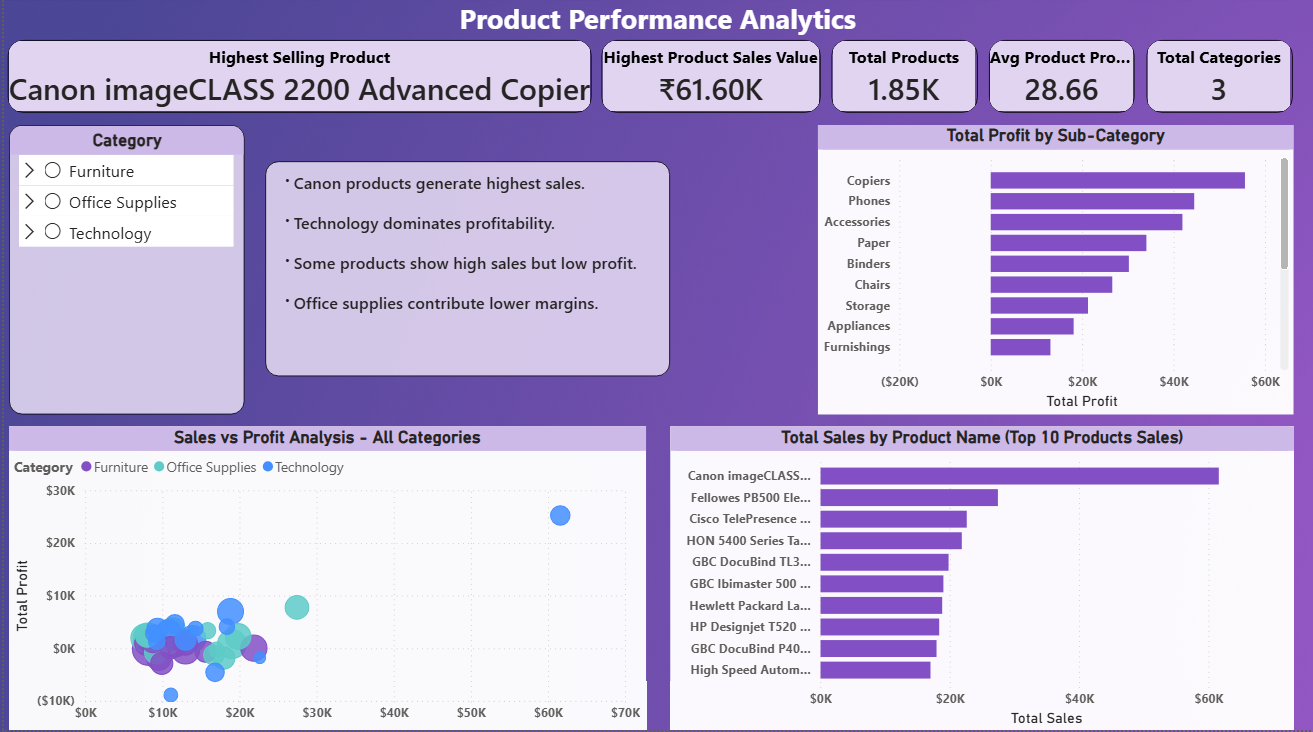

This screenshot's page, from the dashboard's own definition file:
{"tool":"powerbi","page":{"name":"Product Analytics","canvas":[1280,720],"ordinal":1},"visuals":[{"type":"textbox","box":[435.3,0,408.4,47.7],"z":0},{"type":"cardVisual","fields":{"Data":["Sample - Superstore.Highest Selling Product"]},"box":[4,44,571,71],"z":1000},{"type":"cardVisual","fields":{"Data":["Sample - Superstore.Highest Product Sales Value"]},"box":[585,44.3,214,71.4],"z":2000},{"type":"cardVisual","fields":{"Data":["Sample - Superstore.Total Categories"]},"box":[1118,44.3,142.9,71.4],"z":3000},{"type":"cardVisual","fields":{"Data":["Sample - Superstore.Avg Product Profit"]},"box":[964,44.3,142,71.4],"z":4000},{"type":"cardVisual","fields":{"Data":["Sample - Superstore.Total Products"]},"box":[810,44.3,142.9,71.4],"z":5000},{"type":"clusteredBarChart","title":"Total Sales by Product Name (Top 10 Products Sales)","fields":{"Category":["Sample - Superstore.Product Name"],"Y":["Sample - Superstore.Total Sales"]},"box":[651.4,421.4,610,298.6],"z":6000},{"type":"barChart","fields":{"Category":["Sample - Superstore.Sub-Category"],"Y":["Sample - Superstore.Total Profit"]},"box":[795.7,127.1,465.7,282.9],"z":7000},{"type":"scatterChart","fields":{"X":["Sample - Superstore.Total Sales"],"Y":["Sample - Superstore.Total Profit"],"Size":["Sum(Sample - Superstore.Quantity)"],"Category":["Sample - Superstore.Product Name"],"Series":["Sample - Superstore.Category"]},"box":[4.3,421.4,622.9,298.6],"z":8000},{"type":"listSlicer","fields":{"Values":["Sample - Superstore.Category","Sample - Superstore.Sub-Category","Sample - Superstore.Region"]},"box":[4.3,127.1,230,282.9],"z":9000},{"type":"textbox","box":[255.7,162.9,395.7,210],"z":10000}]}

Visuals, with their boxes in screenshot pixels (x1, y1, x2, y2), scaled from the page's 1280x720 canvas onto the 1313x732 screenshot:
textbox: <box>447,0,865,48</box>
cardVisual - Sample - Superstore.Highest Selling Product: <box>4,45,590,117</box>
cardVisual - Sample - Superstore.Highest Product Sales Value: <box>600,45,820,118</box>
cardVisual - Sample - Superstore.Total Categories: <box>1147,45,1293,118</box>
cardVisual - Sample - Superstore.Avg Product Profit: <box>989,45,1135,118</box>
cardVisual - Sample - Superstore.Total Products: <box>831,45,977,118</box>
"Total Sales by Product Name (Top 10 Products Sales)" clusteredBarChart: <box>668,428,1294,731</box>
barChart - Sample - Superstore.Sub-Category x Sample - Superstore.Total Profit: <box>816,129,1294,417</box>
scatterChart - Sample - Superstore.Total Sales x Sample - Superstore.Total Profit: <box>4,428,643,731</box>
listSlicer - Sample - Superstore.Category x Sample - Superstore.Sub-Category: <box>4,129,240,417</box>
textbox: <box>262,166,668,379</box>
